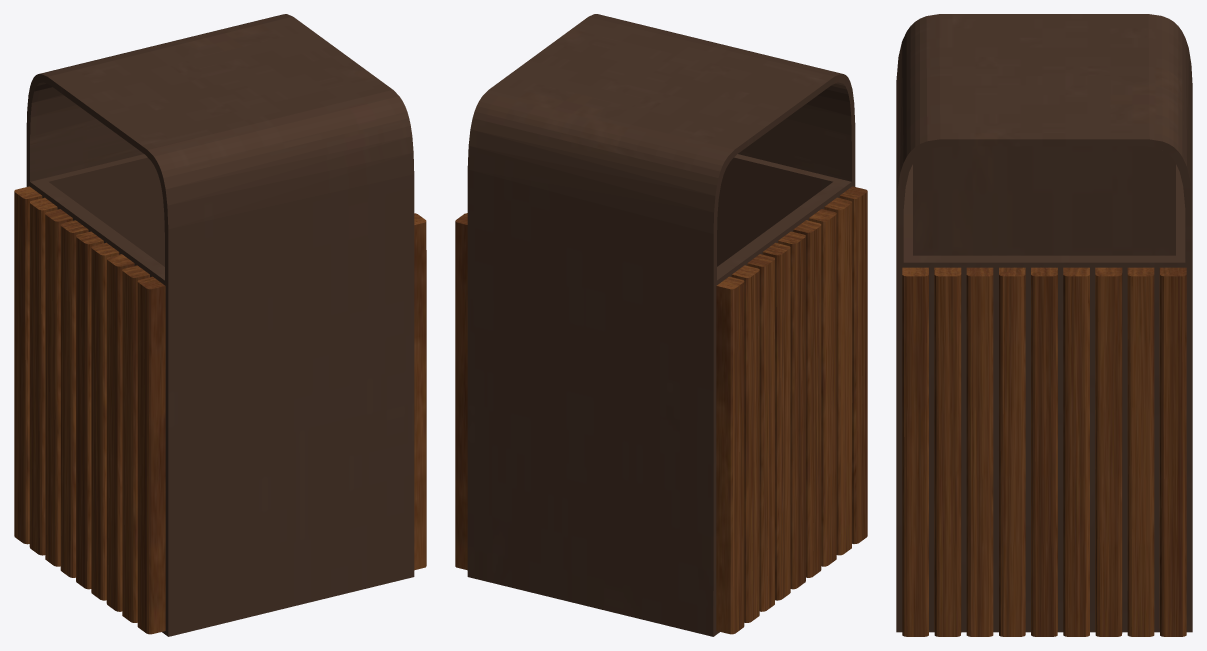
File: trash.fbx
3 renders of one model, left to right at view 1: azimuth 30°, elevation 25°; view 2: azimuth 150°, elevation 25°; view 3: azimuth 270°, elevation 25°, orthographic. The views are drawn at different scales.
Visible parts, largest first — view 1: Trash; view 2: Trash; view 3: Trash.
Part boxes in pixels (x1,y1,x2,y2): Trash: (14, 14, 426, 636); Trash: (455, 14, 867, 636); Trash: (896, 14, 1192, 636).
Size of the model in its own units: 29.36 by 47.3 by 25.78.
